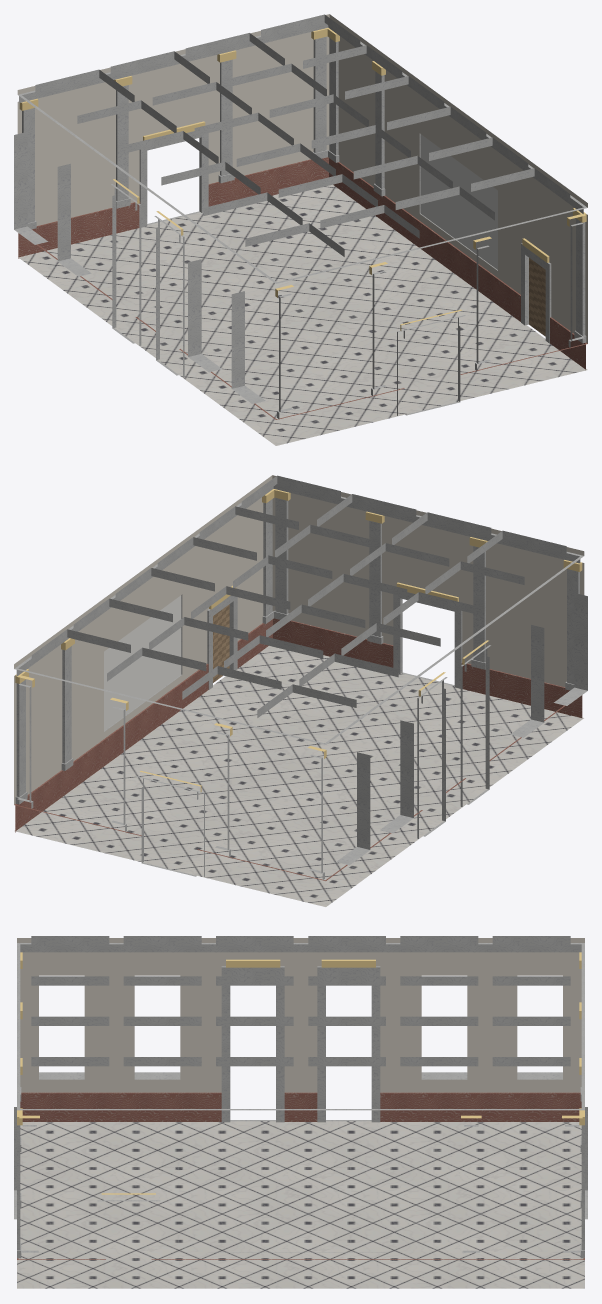
The model's file is hall.glb.
The picture shows the model from 3 angles, top to bottom: view 1: azimuth 30°, elevation 25°; view 2: azimuth 150°, elevation 25°; view 3: azimuth 270°, elevation 25°; orthographic projection. The views are drawn at different scales.
Visible parts, largest first — view 1: hall; view 2: hall; view 3: hall.
Part boxes in pixels (x1,y1,x2,y2): hall: (14,14,587,445); hall: (14,475,587,906); hall: (14,936,587,1288).
Size of the model in its own units: 14.5 by 7.4 by 20.
Materials: 9 (5 with a texture image).
